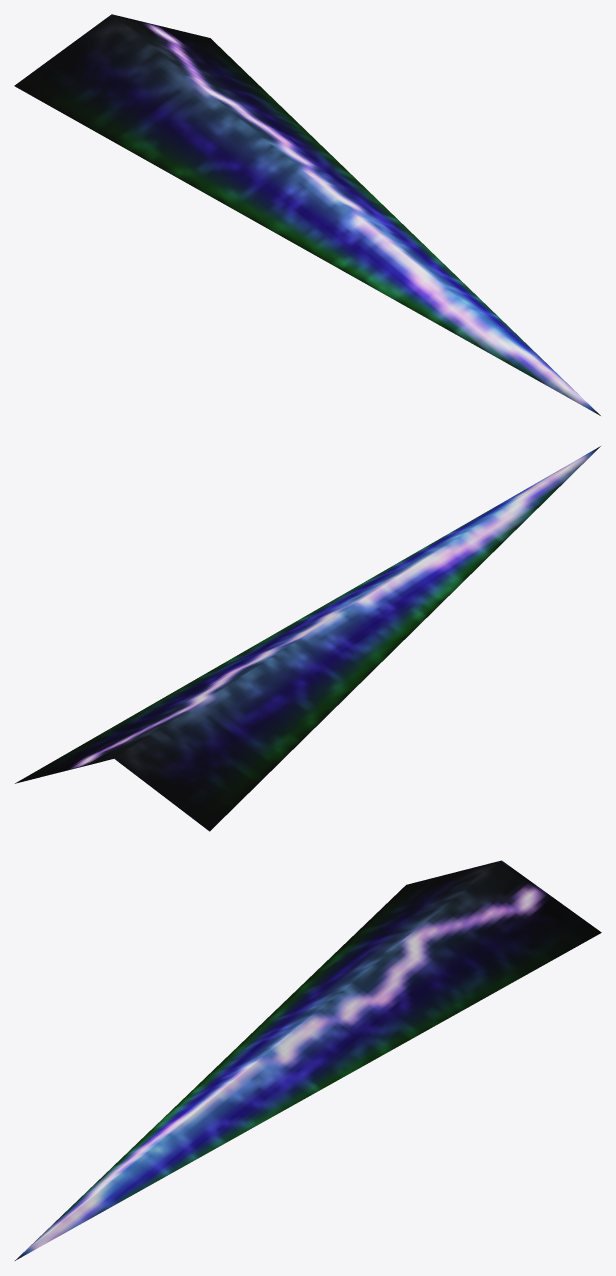
File: ray01.glb
The picture shows the model from 3 angles, top to bottom: view 1: azimuth 30°, elevation 25°; view 2: azimuth 150°, elevation 25°; view 3: azimuth 330°, elevation 25°; orthographic projection.
Parts seen in each view (by area): view 1: ray01; view 2: ray01; view 3: ray01.
Part boxes in pixels (<box>): ray01: <box>14,14,600,415</box>; ray01: <box>15,446,600,831</box>; ray01: <box>15,860,601,1260</box>.
Size of the model in its own units: 259 by 61.67 by 1122.
1 material, 1 textured.
